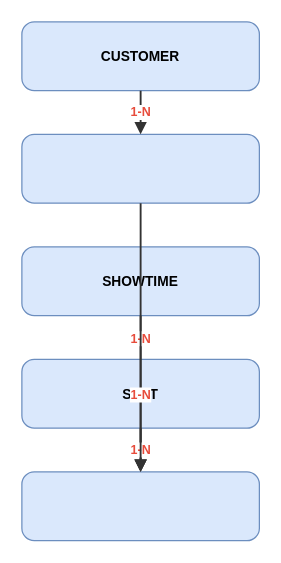
Image size: 281x563. Some labels were removed from this diagram. The shapes that lost their labels are listed below. From the top down, each one's box as (x1, y1, x2, y2) in pixels, then its label:
(21, 133, 259, 203): BOOKING
(21, 471, 259, 541): BOOKING_DETAIL (TICKET)
